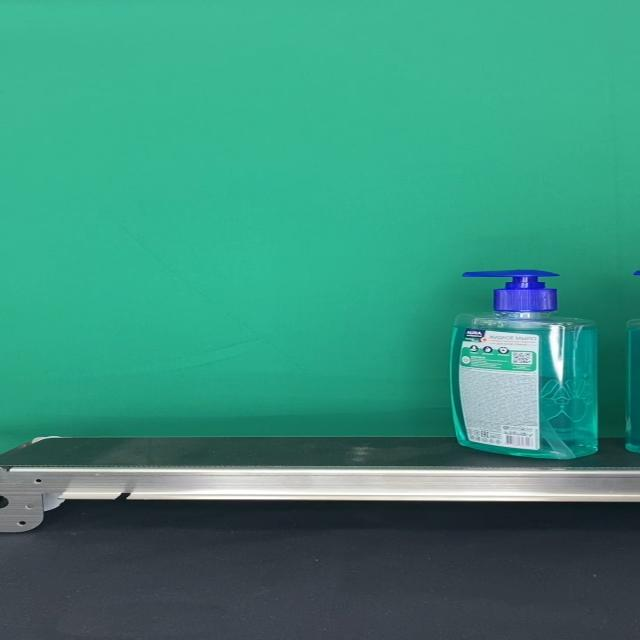Bottle: (449, 270, 598, 459)
Cap: (461, 270, 561, 312)
